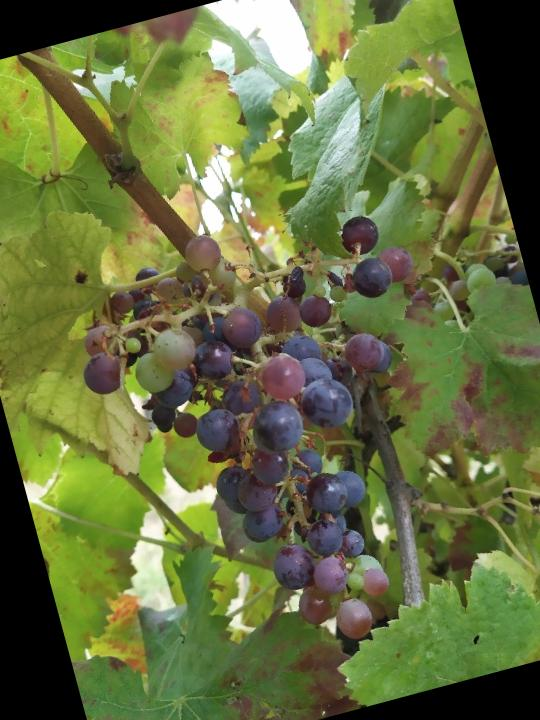grape: (57, 181, 500, 692)
